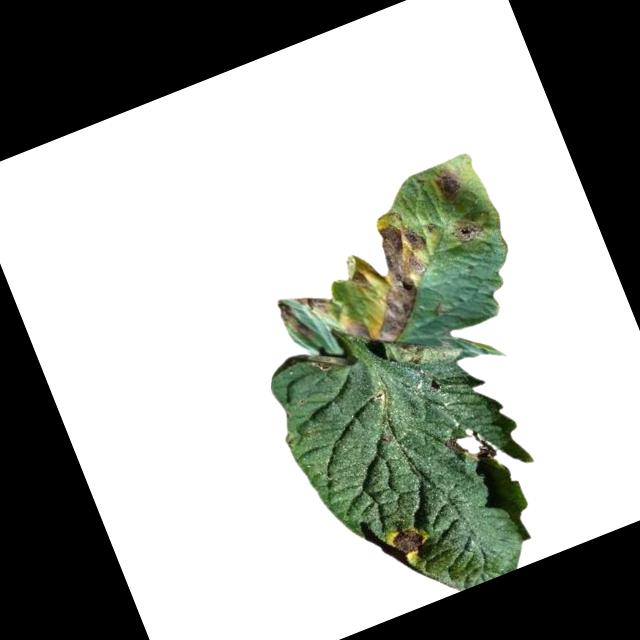Early_blight: (260, 203, 459, 378), (443, 421, 497, 471), (387, 517, 431, 559), (428, 163, 469, 208), (448, 209, 487, 247)
